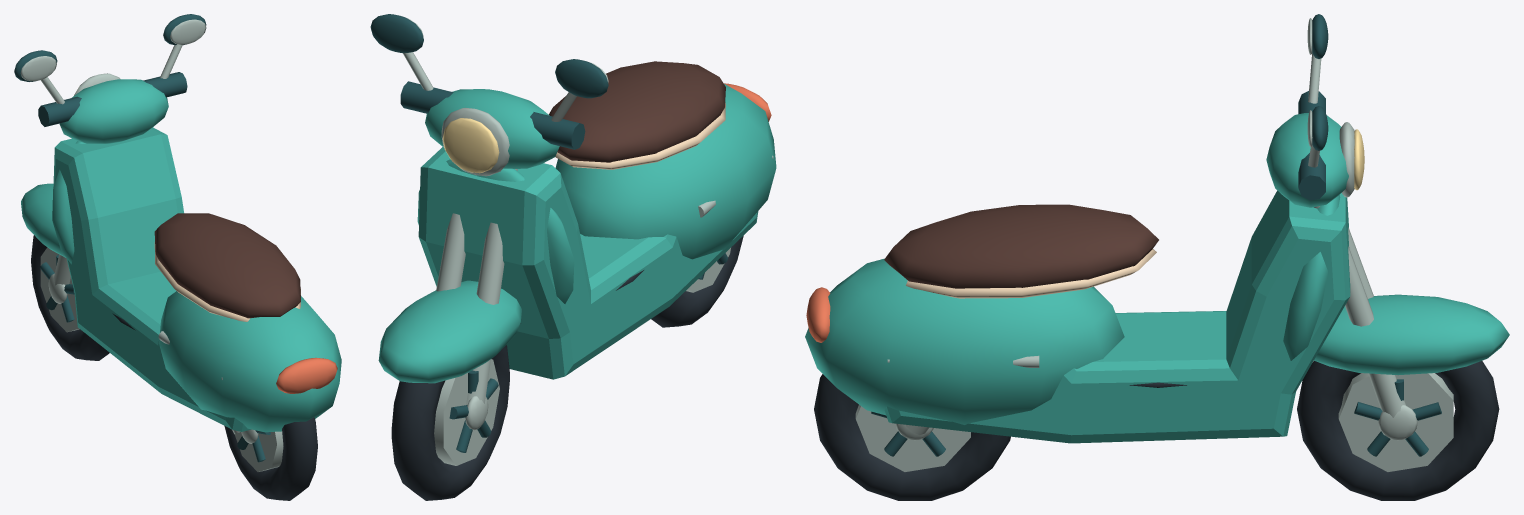
The model's file is seafoam-scooter.glb.
3 views of the same model, side by side, from view 1: azimuth 30°, elevation 25°; view 2: azimuth 150°, elevation 25°; view 3: azimuth 270°, elevation 25° (orthographic). The views are drawn at different scales.
Visible parts, largest first — view 1: Step-through body, Rear engine cover, Leather double seat, Tire (×2), Steering cowl, Rim (×2), Front mudguard, Tail light, Handlebar, Mirror glass (×2), Front apron, Saddle piping (+2 smaller); view 2: Step-through body, Rear engine cover, Leather double seat, Front mudguard, Tire (×2), Steering cowl, Fork stay (×2), Rim (×2), Mirror housing (×2), Headlight, Handlebar, Front apron (+3 smaller); view 3: Step-through body, Rear engine cover, Tire (×2), Leather double seat, Front mudguard, Rim (×2), Steering cowl, Front apron, Saddle piping, Fork stay, Handlebar, Tail light (+2 smaller).
Part boxes in pixels (x1,y1,x2,y2): Step-through body: [53, 127, 251, 431]; Rear engine cover: [159, 291, 341, 432]; Leather double seat: [154, 213, 300, 318]; Tire (×2): [31, 235, 317, 500]; Steering cowl: [59, 79, 168, 143]; Rim (×2): [40, 247, 283, 471]; Front mudguard: [21, 183, 66, 257]; Tail light: [276, 357, 337, 393]; Handlebar: [38, 72, 187, 126]; Mirror glass (×2): [20, 19, 206, 81]; Front apron: [52, 141, 85, 264]; Saddle piping: [154, 242, 300, 321]; Step-through body: [418, 147, 758, 379]; Rear engine cover: [555, 84, 776, 259]; Leather double seat: [548, 61, 725, 162]; Front mudguard: [378, 280, 521, 383]; Tire (×2): [391, 236, 743, 500]; Steering cowl: [425, 89, 559, 168]; Fork stay (×2): [436, 169, 517, 404]; Rim (×2): [434, 248, 730, 465]; Mirror housing (×2): [370, 14, 608, 98]; Headlight: [442, 118, 499, 173]; Handlebar: [400, 81, 585, 149]; Front apron: [417, 159, 574, 303]; Step-through body: [884, 190, 1350, 443]; Rear engine cover: [805, 258, 1124, 424]; Tire (×2): [814, 361, 1499, 500]; Leather double seat: [884, 204, 1158, 288]; Front mudguard: [1314, 294, 1509, 375]; Rim (×2): [855, 373, 1453, 471]; Steering cowl: [1266, 113, 1348, 207]; Front apron: [1283, 195, 1340, 360]; Saddle piping: [906, 249, 1156, 298]; Fork stay: [1314, 206, 1405, 417]; Handlebar: [1298, 91, 1325, 200]; Tail light: [806, 287, 830, 342].
Size of the model in its own units: 0.79 by 1.35 by 1.98.
